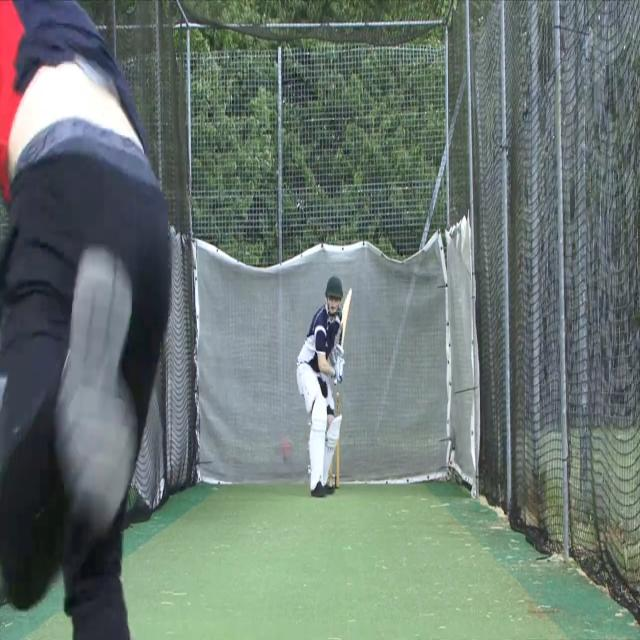batsman: (294, 273, 354, 501)
